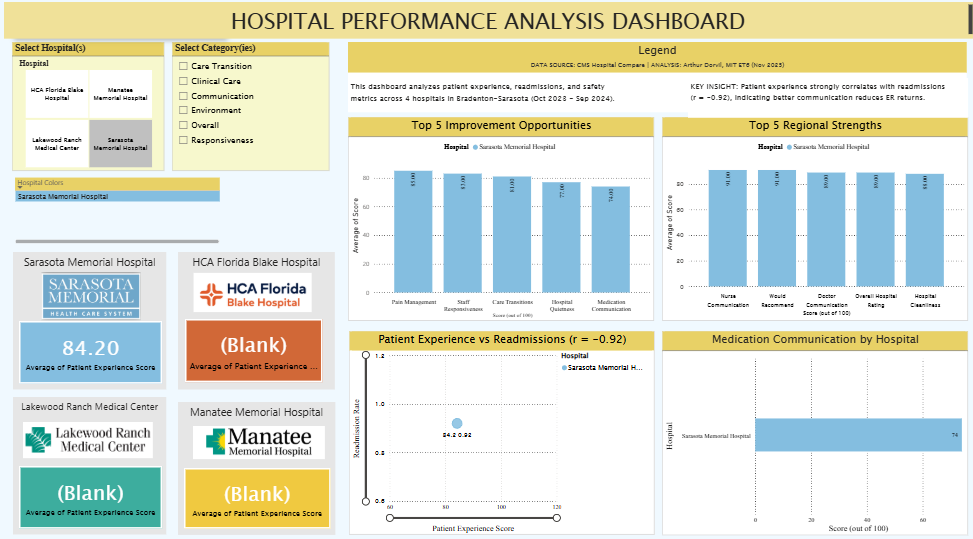

Layout of this report page (visuals, bound fields, positions):
{"tool":"powerbi","page":{"name":"Page 1","canvas":[1920,1080],"ordinal":0},"visuals":[{"type":"group","id":"g1","title":"Group 1","box":[356,510.3,308,270.4],"z":0,"group":"g3"},{"type":"clusteredBarChart","title":"Medication Communication by Hospital","fields":{"Category":["hospital_measures_detailed.Hospital"],"Y":["Sum(hospital_measures_detailed.Score)"]},"box":[1304.8,665.3,600.8,400.9],"z":0},{"type":"textbox","box":[31.3,795.3,301.3,270],"z":0,"group":"g5"},{"type":"textbox","box":[356,510.3,308,270.4],"z":500,"group":"g1"},{"type":"textbox","box":[31.3,510.5,301.3,270],"z":500,"group":"g2"},{"type":"textbox","box":[355.7,804.5,308.7,260.8],"z":500,"group":"g4"},{"type":"clusteredColumnChart","title":"Top 5 Regional Strengths","fields":{"Category":["hospital_measures_detailed.Measure_Name"],"Y":["Avg(hospital_measures_detailed.Score)"],"Series":["hospital_measures_detailed.Hospital"]},"box":[1304.8,246,600.8,399.9],"z":1000},{"type":"card","title":"Sarasota Memorial Hospital","fields":{"Values":["Avg(hospital_summary.Patient_Experience_Score)"]},"box":[43.7,930.3,281.1,123.5],"z":1000,"group":"g5"},{"type":"card","title":"Sarasota Memorial Hospital","fields":{"Values":["Avg(hospital_summary.Patient_Experience_Score)"]},"box":[43.7,645.5,281.1,123.5],"z":1500,"group":"g2"},{"type":"card","title":"Sarasota Memorial Hospital","fields":{"Values":["Avg(hospital_summary.Patient_Experience_Score)"]},"box":[368.4,934.9,287.9,119.3],"z":1500,"group":"g4"},{"type":"clusteredColumnChart","title":"Top 5 Improvement Opportunities","fields":{"Category":["hospital_measures_detailed.Measure_Name"],"Y":["Avg(hospital_measures_detailed.Score)"],"Series":["hospital_measures_detailed.Hospital"]},"box":[690.2,246,600.8,399.9],"z":2000},{"type":"card","title":"HCA Florida Blake Hospital","fields":{"Values":["Avg(hospital_summary.Patient_Experience_Score)"]},"box":[370,641.6,270.3,123.7],"z":3000,"group":"g3"},{"type":"scatterChart","title":"Patient Experience vs Readmissions (r = -0.92)","fields":{"X":["hospital_summary.Patient_Experience_Score"],"Y":["hospital_summary.Readmission_Rate"],"Series":["hospital_summary.Hospital"]},"box":[691.1,665.3,599.9,399.9],"z":3000},{"type":"slicer","title":"Select Hospital(s)","fields":{"Values":["hospital_summary.Hospital"]},"box":[29.5,98.6,299.5,253.4],"z":4000},{"type":"slicer","title":"Select Category(ies)","fields":{"Values":["hospital_measures_detailed.Measure_Category"]},"box":[342.8,98.6,308.7,253.4],"z":5000},{"type":"textbox","box":[29.5,47,412.8,37.8],"z":6000},{"type":"textbox","box":[13.8,20.3,1906.6,71.9],"z":7000},{"type":"group","id":"g2","title":"Group 1","box":[31.3,510.5,301.3,270],"z":8000},{"type":"group","id":"g3","title":"Group 2","box":[356,458,308,323],"z":9000},{"type":"group","id":"g4","title":"Group 3","box":[355.7,804.5,308.7,260.8],"z":10000},{"type":"textbox","title":"Legend","box":[690.2,98.6,1215.5,138.2],"z":11000},{"type":"group","id":"g5","title":"Group 4","box":[31.3,795.3,301.3,270],"z":12000},{"type":"image","box":[51.6,844.1,255.3,71],"z":12000,"group":"g5"},{"type":"tableEx","fields":{"Values":["hospital_summary.Hospital"]},"box":[29,360,413,140],"z":13000},{"type":"image","box":[381.9,458,241.8,265.8],"z":13000,"group":"g3"},{"type":"image","box":[81.5,521.1,205.5,154.8],"z":13000,"group":"g2"},{"type":"image","box":[384.3,851.5,258.9,64.5],"z":13003,"group":"g4"},{"type":"textbox","box":[1356,168,550,78],"z":14001}]}

Visuals, with their boxes in screenshot pixels (x1, y1, x2, y2), scaled from the page's 1920x1080 canvas onto the 973x539 screenshot:
"Group 1" group: (left=180, top=255, right=336, bottom=390)
"Medication Communication by Hospital" clusteredBarChart: (left=661, top=332, right=966, bottom=532)
textbox: (left=16, top=397, right=169, bottom=532)
textbox: (left=180, top=255, right=336, bottom=390)
textbox: (left=16, top=255, right=169, bottom=390)
textbox: (left=180, top=402, right=337, bottom=532)
"Top 5 Regional Strengths" clusteredColumnChart: (left=661, top=123, right=966, bottom=322)
"Sarasota Memorial Hospital" card: (left=22, top=464, right=165, bottom=526)
"Sarasota Memorial Hospital" card: (left=22, top=322, right=165, bottom=384)
"Sarasota Memorial Hospital" card: (left=187, top=467, right=333, bottom=526)
"Top 5 Improvement Opportunities" clusteredColumnChart: (left=350, top=123, right=654, bottom=322)
"HCA Florida Blake Hospital" card: (left=188, top=320, right=324, bottom=382)
"Patient Experience vs Readmissions (r = -0.92)" scatterChart: (left=350, top=332, right=654, bottom=532)
"Select Hospital(s)" slicer: (left=15, top=49, right=167, bottom=176)
"Select Category(ies)" slicer: (left=174, top=49, right=330, bottom=176)
textbox: (left=15, top=23, right=224, bottom=42)
textbox: (left=7, top=10, right=972, bottom=46)
"Group 1" group: (left=16, top=255, right=169, bottom=390)
"Group 2" group: (left=180, top=229, right=336, bottom=390)
"Group 3" group: (left=180, top=402, right=337, bottom=532)
"Legend" textbox: (left=350, top=49, right=966, bottom=118)
"Group 4" group: (left=16, top=397, right=169, bottom=532)
image: (left=26, top=421, right=156, bottom=457)
tableEx - hospital_summary.Hospital: (left=15, top=180, right=224, bottom=250)
image: (left=194, top=229, right=316, bottom=361)
image: (left=41, top=260, right=145, bottom=337)
image: (left=195, top=425, right=326, bottom=457)
textbox: (left=687, top=84, right=966, bottom=123)
